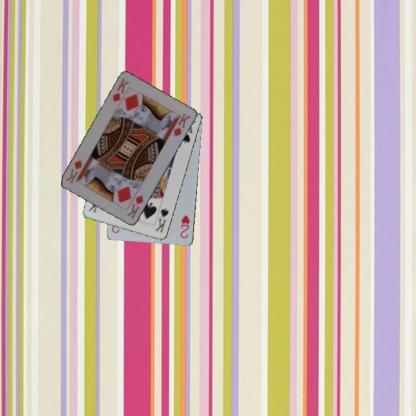2h: (178, 212, 191, 240)
Kd: (124, 193, 145, 220), (110, 76, 131, 103)
Ks: (152, 206, 170, 234)
